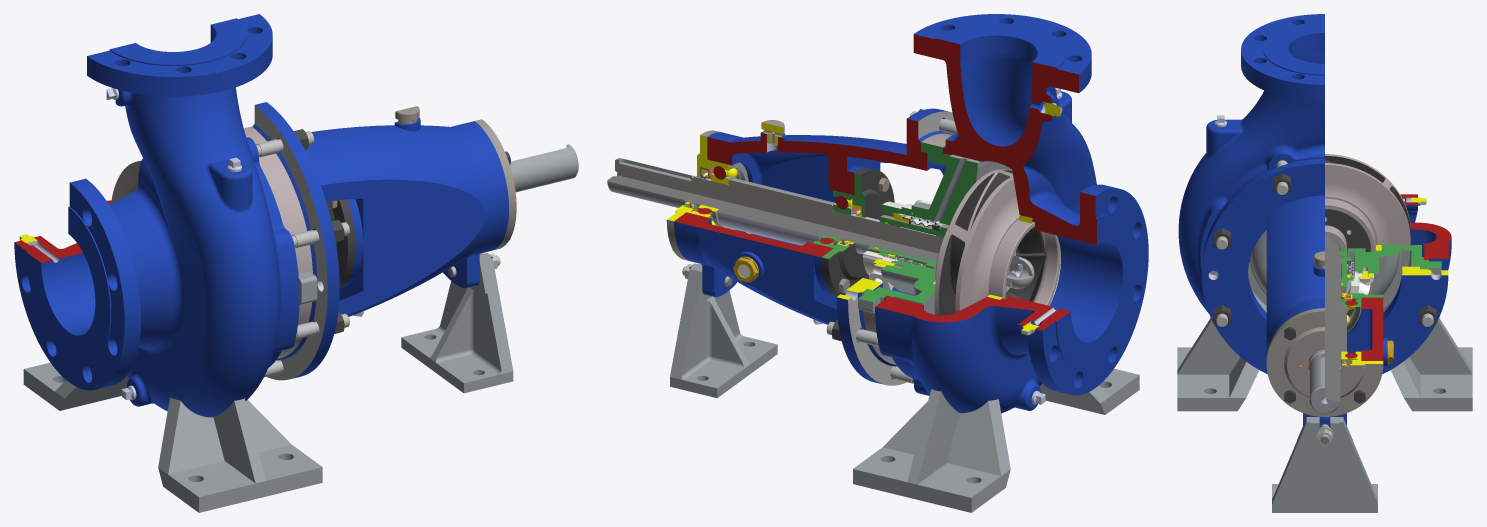
Rendered from Panel.glb.
3 renders of one model, left to right at view 1: azimuth 30°, elevation 25°; view 2: azimuth 150°, elevation 25°; view 3: azimuth 270°, elevation 25°, orthographic. The views are drawn at different scales.
Parts seen in each view (by area): view 1: N3; view 2: N3; view 3: N3.
Part boxes in pixels (box(x1,y1,x2,y2)): N3: box(14, 14, 578, 512); N3: box(607, 14, 1148, 512); N3: box(1177, 14, 1472, 512).
Bounding box in the file's own units: 0.7488 × 0.57 × 0.4526.
Materials: 1 (1 with a texture image).
